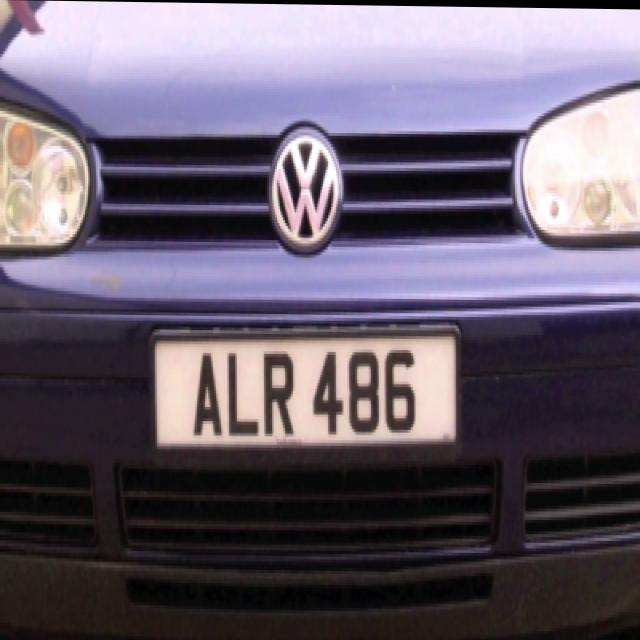licence: (149, 335, 437, 466)
